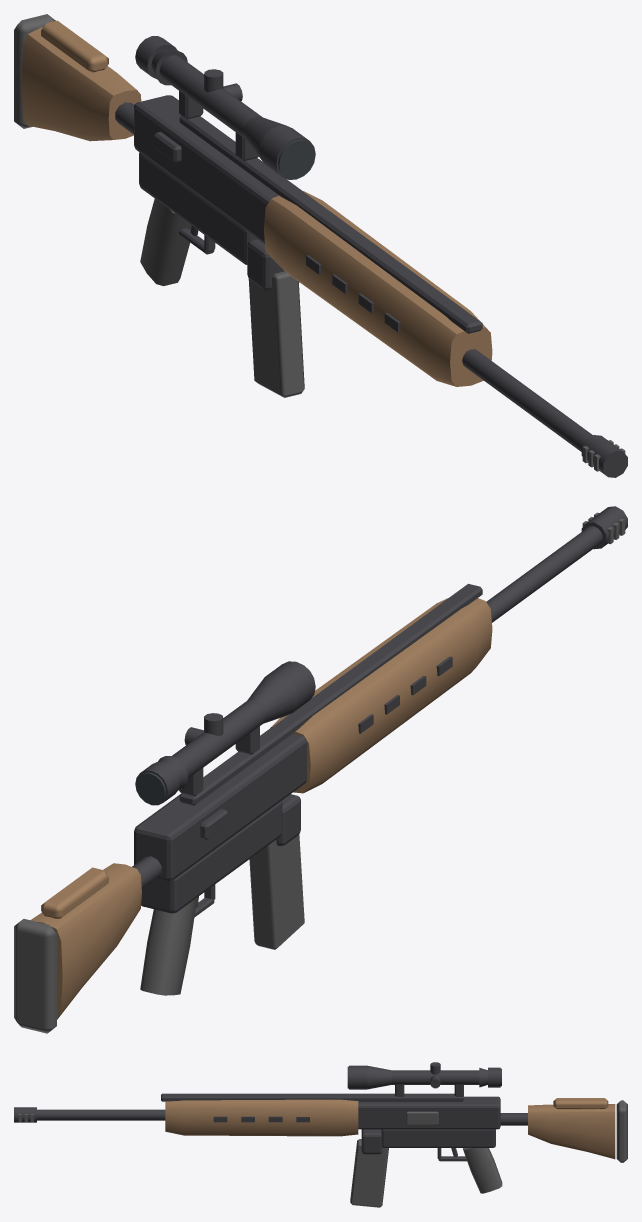
File: dmr.glb
3 renders of one model, top to bottom at view 1: azimuth 30°, elevation 25°; view 2: azimuth 150°, elevation 25°; view 3: azimuth 270°, elevation 25°, orthographic. The views are drawn at different scales.
Visible parts, largest first — view 1: dmr; view 2: dmr; view 3: dmr.
Boxes of the visible parts, x1,y1,x2,y2 form: dmr: [14, 14, 627, 477]; dmr: [14, 506, 627, 1033]; dmr: [14, 1062, 627, 1207].
Size of the model in its own units: 0.072 by 0.3397 by 1.34.
